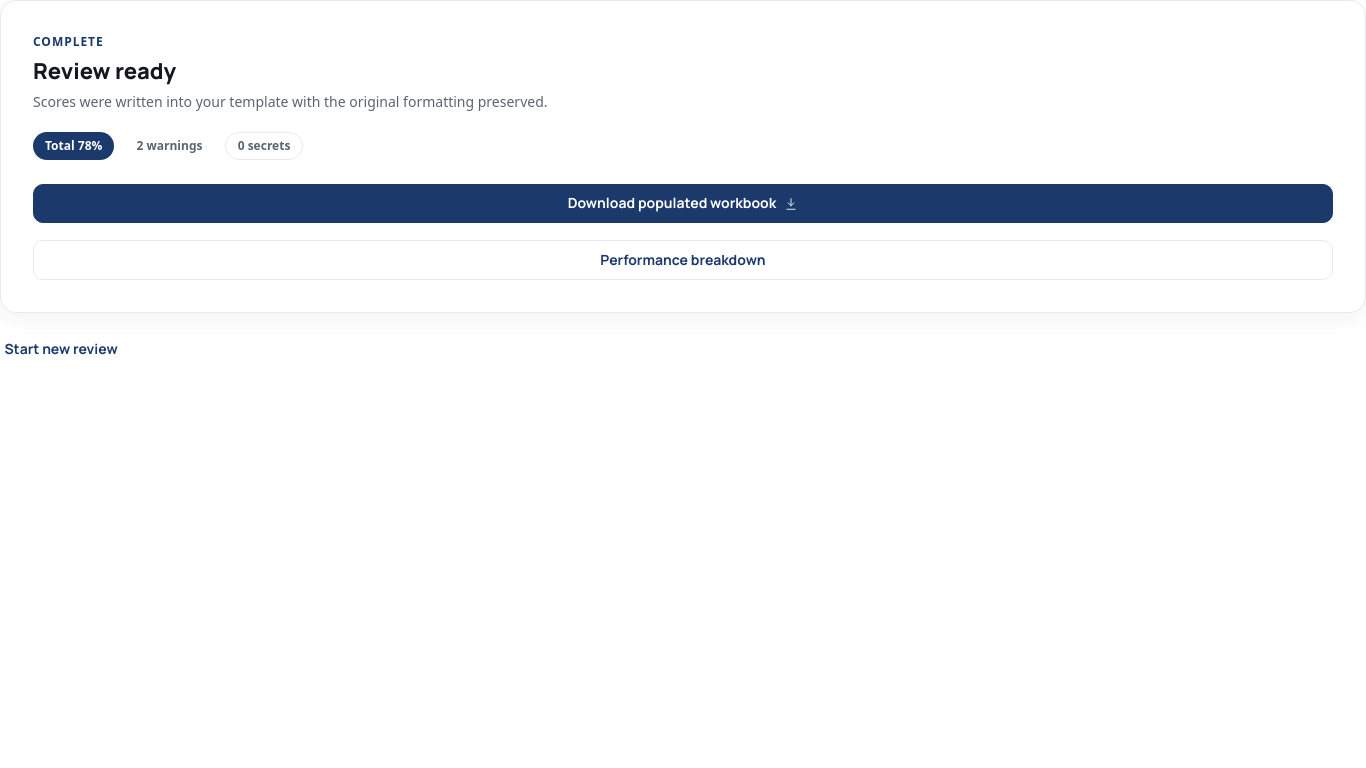
Test case: clicking the warnings tag opens a dialog listing every warning
The image size is (1366, 768).
Expected: the text "Missing AndroidManifest.xml" is not shown
Step 1. Click the button "2 warnings" → x=170, y=146, box [124,132,214,160]
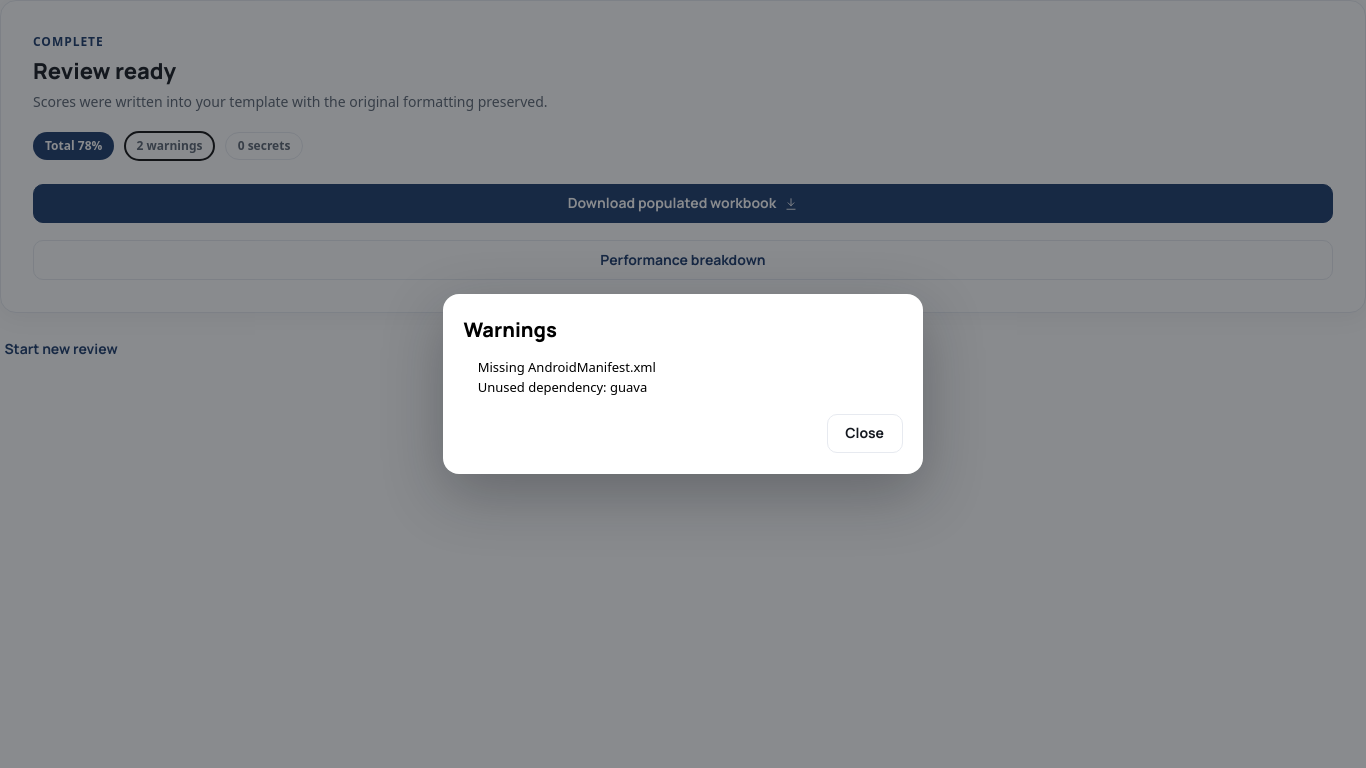
Expected: the list item "Missing AndroidManifest.xml" is shown, [478,358,656,376]
Expected: the list item "Unused dependency: guava" is shown, [478,378,647,396]
